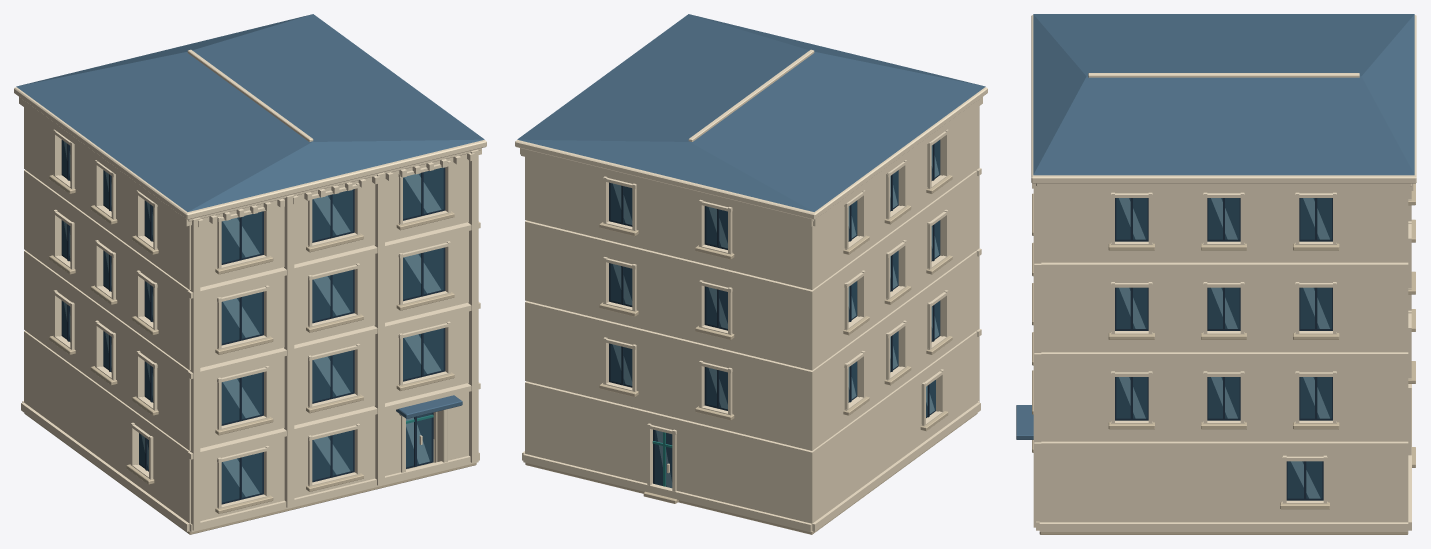
Rendered from square_blue_cap_office.glb.
3 views of the same model, side by side, from view 1: azimuth 30°, elevation 25°; view 2: azimuth 150°, elevation 25°; view 3: azimuth 270°, elevation 25° (orthographic). The views are drawn at different scales.
Parts seen in each view (by area): view 1: SquareBlueCapOffice_StaticMesh; view 2: SquareBlueCapOffice_StaticMesh; view 3: SquareBlueCapOffice_StaticMesh.
Boxes of the visible parts, <box> form: SquareBlueCapOffice_StaticMesh: <box>14,14,486,534</box>; SquareBlueCapOffice_StaticMesh: <box>515,14,987,534</box>; SquareBlueCapOffice_StaticMesh: <box>1016,14,1416,534</box>.
Size of the model in its own units: 11.92 by 13.09 by 12.38.
